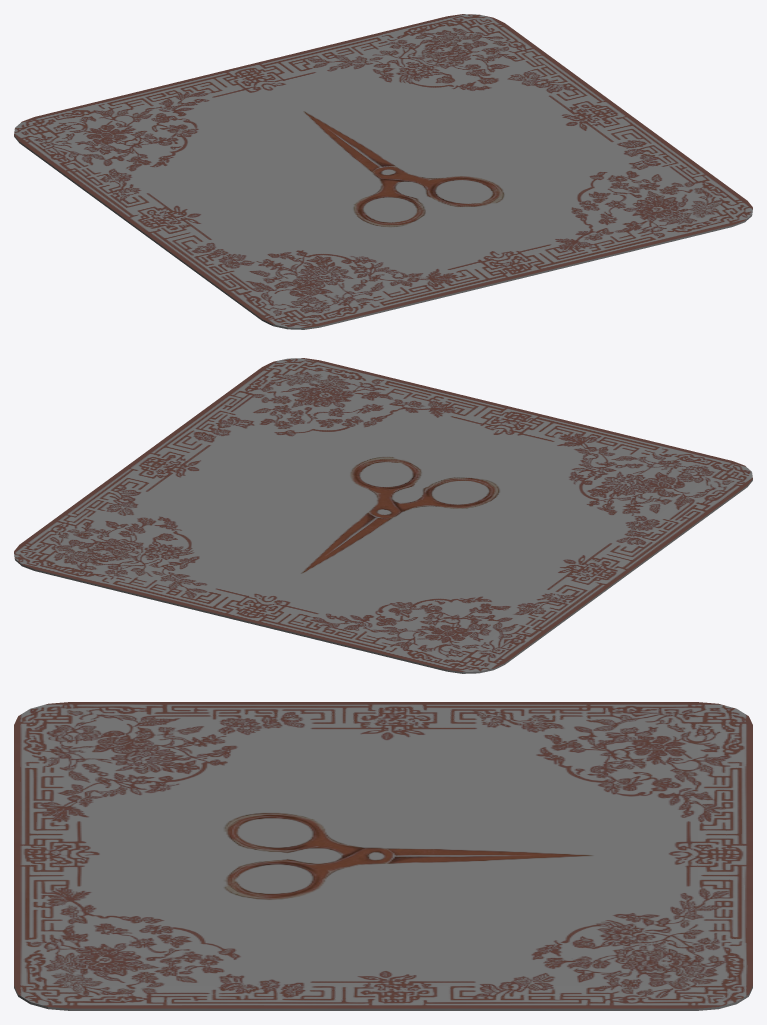
Rendered from FBX_CardItem.fbx.
The picture shows the model from 3 angles, top to bottom: view 1: azimuth 30°, elevation 25°; view 2: azimuth 150°, elevation 25°; view 3: azimuth 270°, elevation 25°; orthographic projection. The views are drawn at different scales.
Parts seen in each view (by area): view 1: Cubo.009; view 2: Cubo.009; view 3: Cubo.009.
Part boxes in pixels (x1,y1,x2,y2): Cubo.009: [14, 14, 752, 329]; Cubo.009: [14, 358, 752, 673]; Cubo.009: [14, 702, 752, 1010].
Size of the model in its own units: 1.27 by 0.00611 by 1.29.
